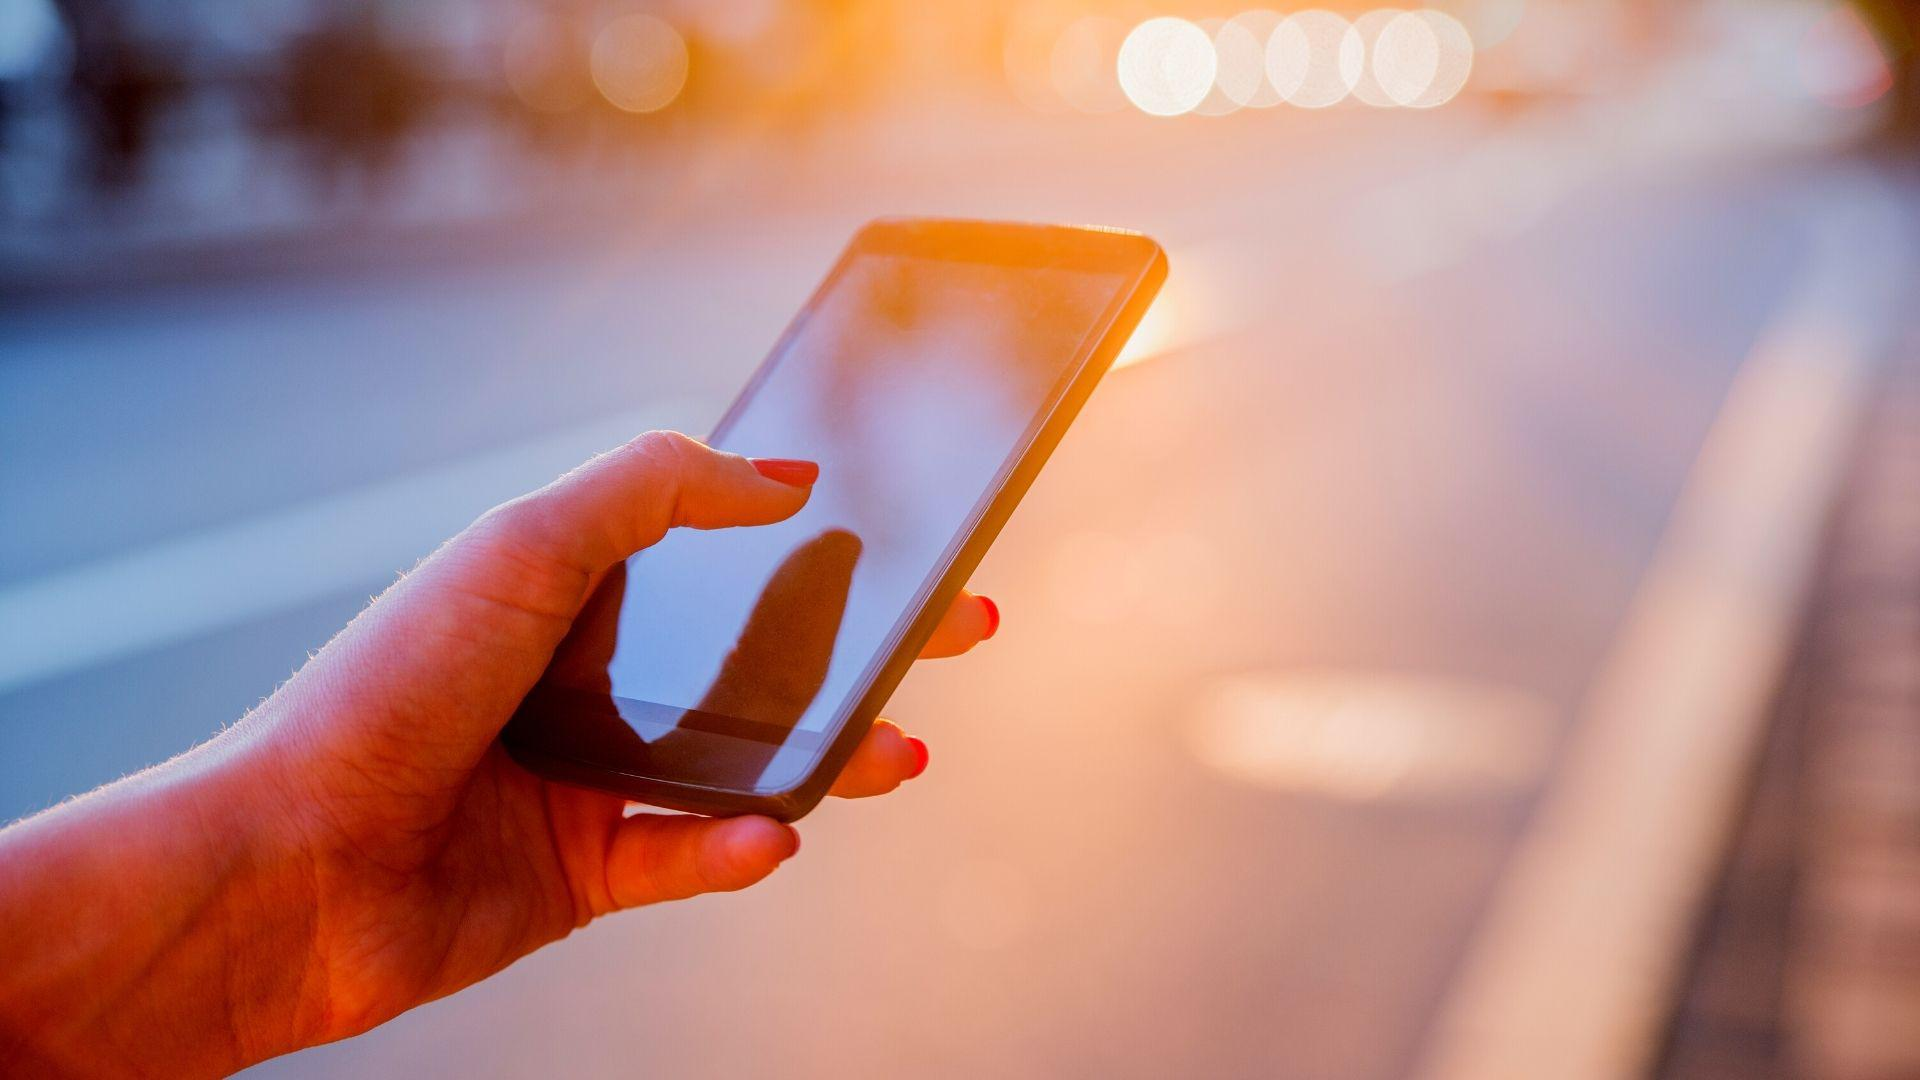Hand: (277, 423, 1029, 967)
Smartphone: (502, 218, 1170, 828)
